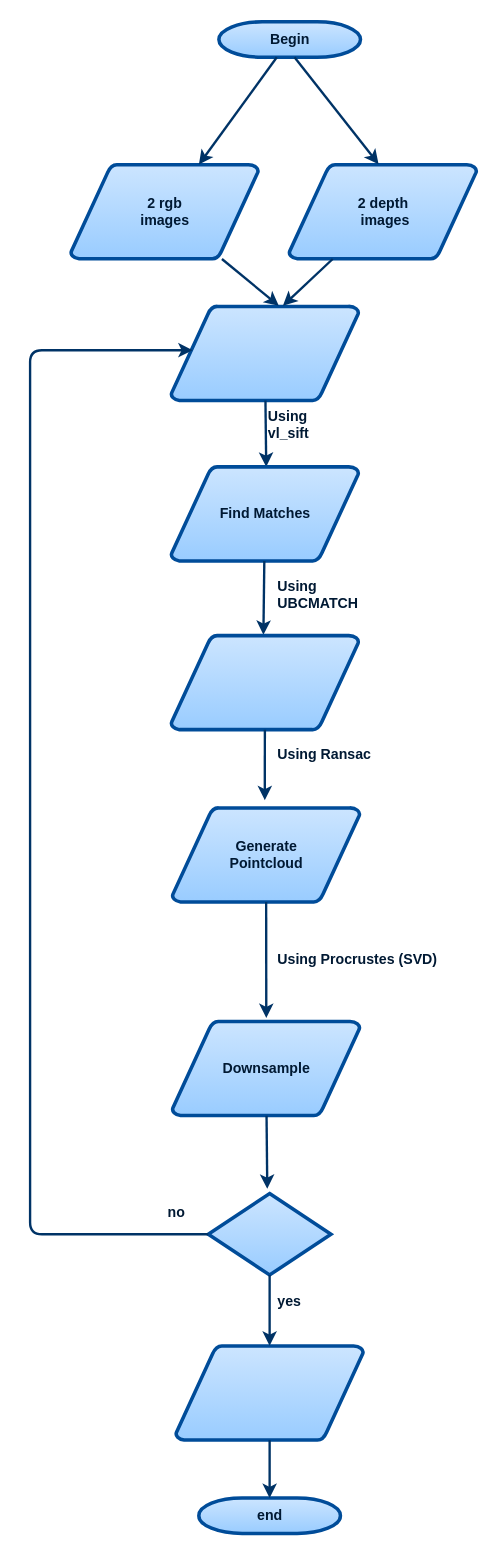
The diagram is 498 pixels wide and 1555 high, and some of its shapes have lost their labels. The box of each missing label's shape, as (x1, y1, x2, y2) in pixels:
Get Rotation Matrix and Translation Matrix: (169, 633, 360, 731)
Keyppoint detection: (169, 304, 360, 402)
Project complete?: (206, 1191, 332, 1276)
Show Final Pointcloud: (173, 1343, 365, 1441)
